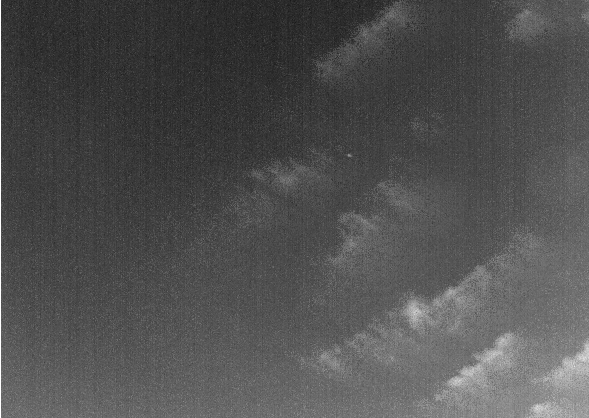dim target: (345, 152, 353, 158)
